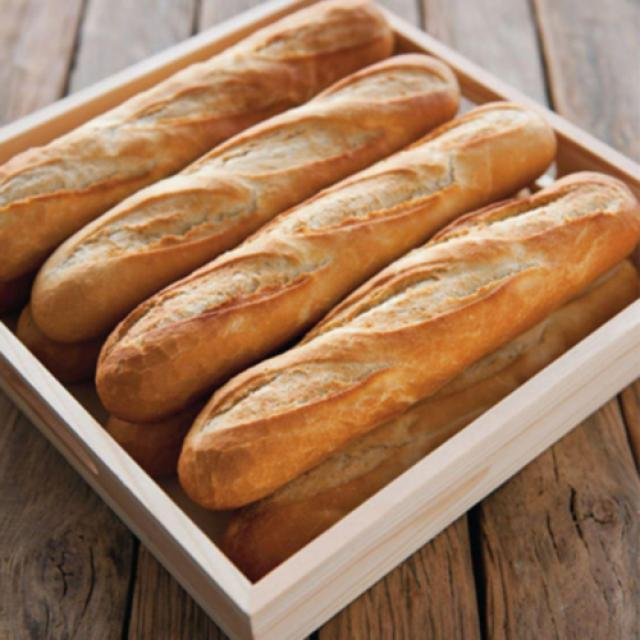Baguette: (179, 172, 639, 507), (97, 102, 556, 419), (32, 55, 457, 339), (0, 0, 393, 280)
